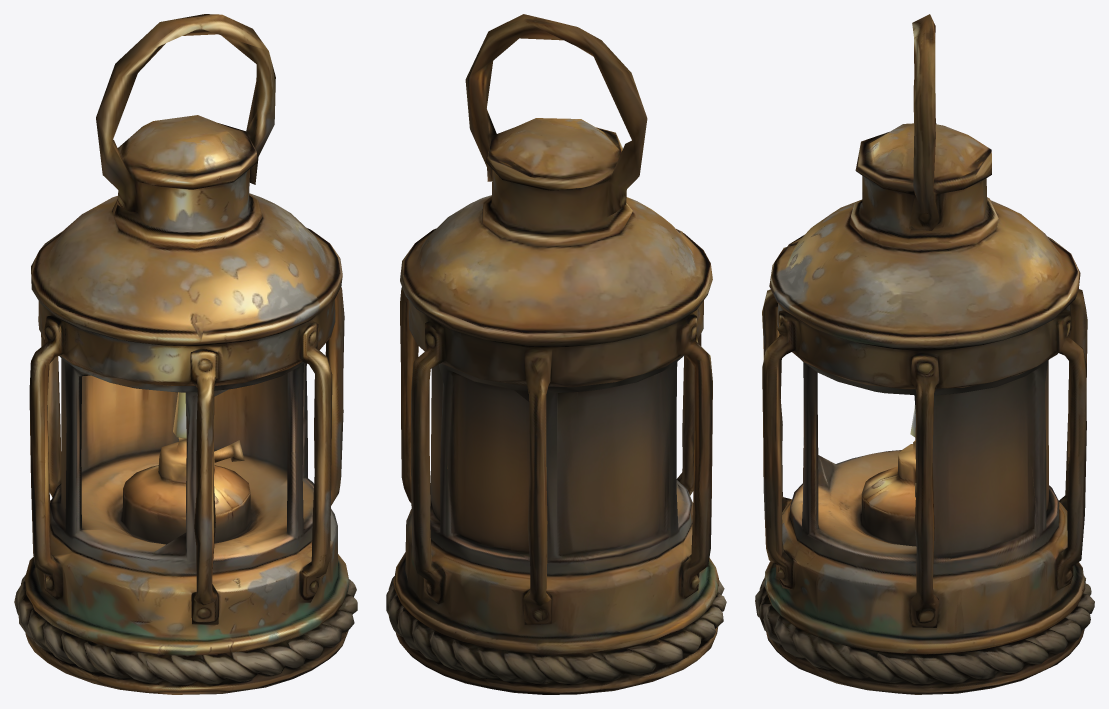
Rendered from PIPELINE3D-con_whale_oil_lamp-batch2-5-delivery-model-fbx-7d1466b075e4-c799e5fb882f.fbx.
The picture shows the model from 3 angles, left to right: view 1: azimuth 30°, elevation 25°; view 2: azimuth 150°, elevation 25°; view 3: azimuth 270°, elevation 25°; orthographic projection.
Parts seen in each view (by area): view 1: tripo_node_b6150bb2-613a-47ba-8c2e-1bdd3b2b1f76; view 2: tripo_node_b6150bb2-613a-47ba-8c2e-1bdd3b2b1f76; view 3: tripo_node_b6150bb2-613a-47ba-8c2e-1bdd3b2b1f76.
Part boxes in pixels (x1,y1,x2,y2): tripo_node_b6150bb2-613a-47ba-8c2e-1bdd3b2b1f76: (14,14,357,694); tripo_node_b6150bb2-613a-47ba-8c2e-1bdd3b2b1f76: (386,14,726,694); tripo_node_b6150bb2-613a-47ba-8c2e-1bdd3b2b1f76: (755,14,1094,694).
Size of the model in its own units: 18.77 by 35 by 17.92.
1 material, 1 textured.
